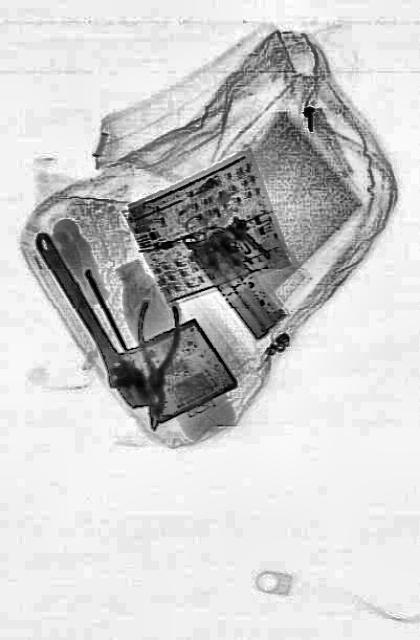Pliers: (131, 300, 179, 432)
Wrench: (25, 219, 152, 419)
